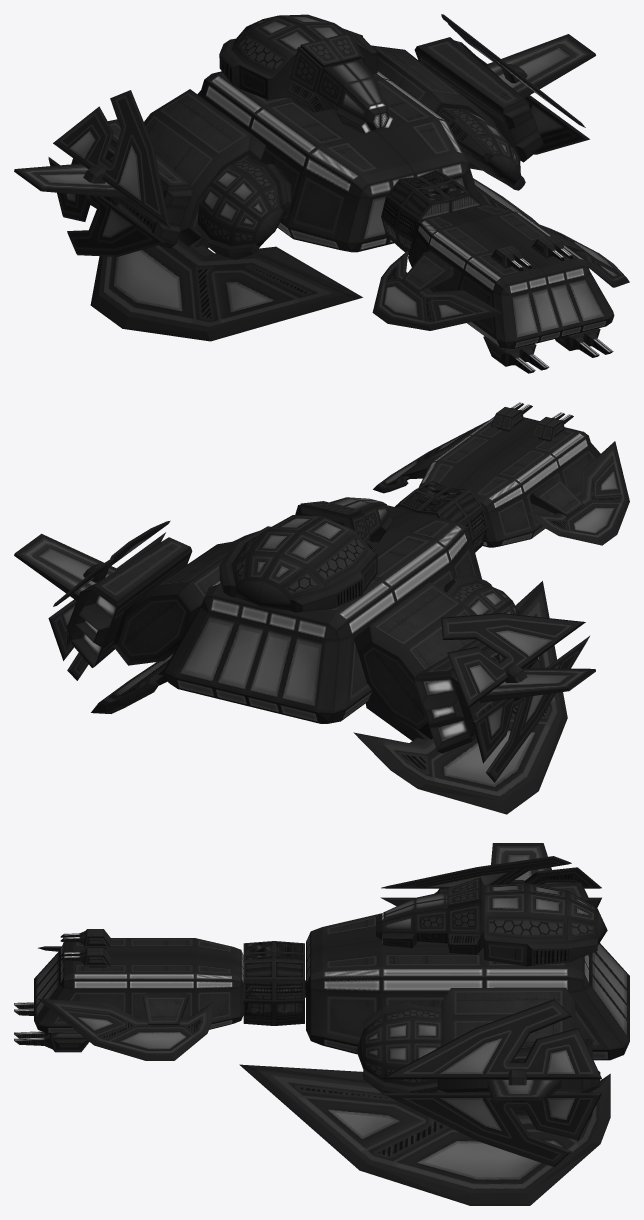
File: astraTalonFleet_CruiserA.FBX
The picture shows the model from 3 angles, top to bottom: view 1: azimuth 30°, elevation 25°; view 2: azimuth 150°, elevation 25°; view 3: azimuth 270°, elevation 25°; orthographic projection. The views are drawn at different scales.
Visible parts, largest first — view 1: CruiserAModel; view 2: CruiserAModel; view 3: CruiserAModel.
Boxes of the visible parts, left/top/right/bottom form: CruiserAModel: left=14, top=14, right=629, bottom=373; CruiserAModel: left=14, top=402, right=629, bottom=814; CruiserAModel: left=14, top=843, right=629, bottom=1205.
Size of the model in its own units: 1006 by 1025 by 407.
